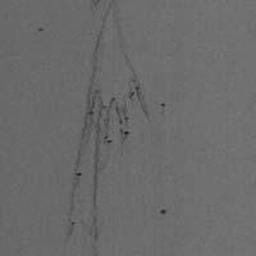Water spot: (64, 0, 151, 256), (95, 0, 102, 8)
